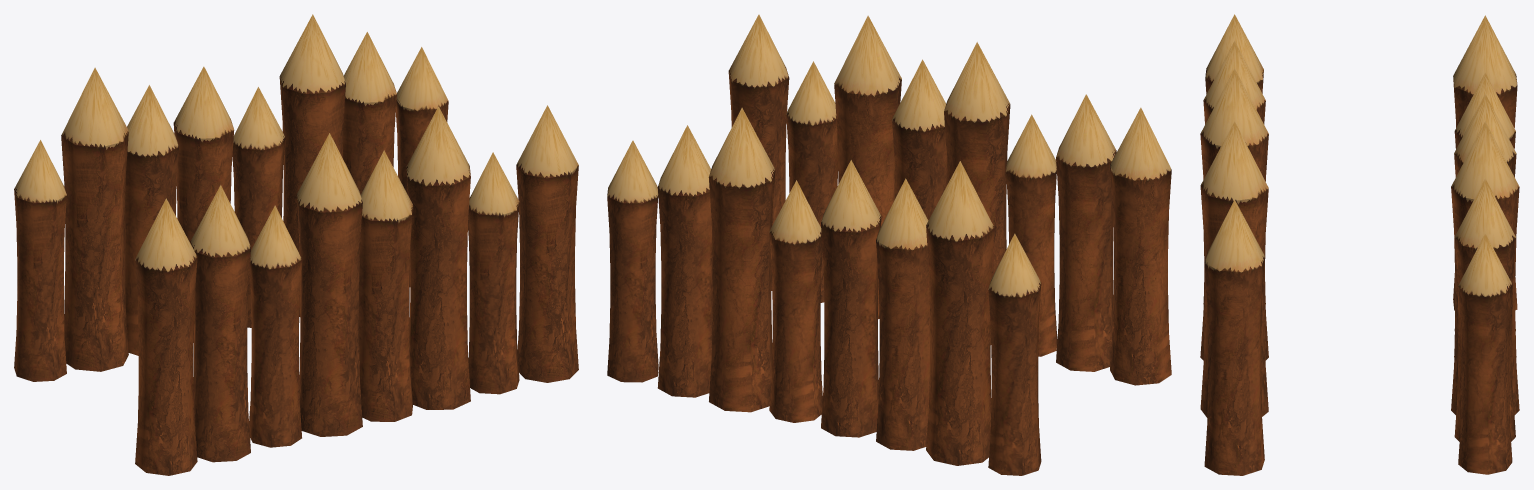
The model's file is Fence_Straight.FBX.
The picture shows the model from 3 angles, left to right: view 1: azimuth 30°, elevation 25°; view 2: azimuth 150°, elevation 25°; view 3: azimuth 270°, elevation 25°; orthographic projection.
Parts seen in each view (by area): view 1: Fence_Straight; view 2: Fence_Straight; view 3: Fence_Straight.
Boxes of the visible parts, x1,y1,x2,y2 form: Fence_Straight: (14,14,578,475); Fence_Straight: (607,14,1171,475); Fence_Straight: (1200,14,1519,475).
Bounding box in the file's own units: 795 × 510 × 509.
